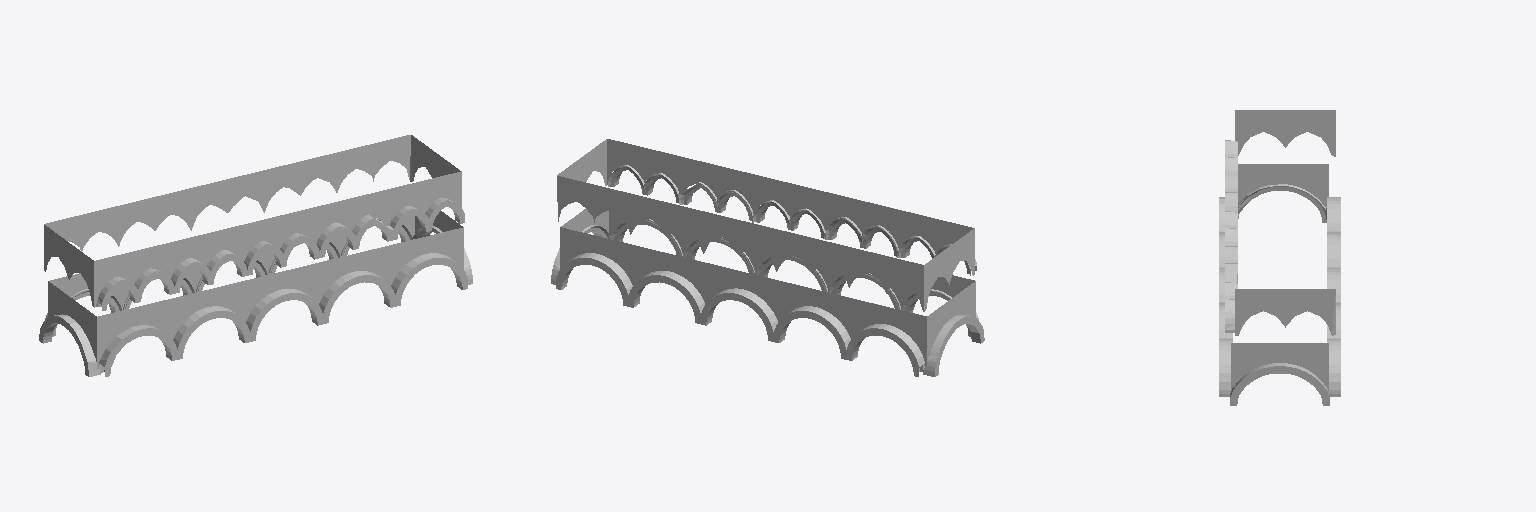
The model's file is church.obj.
3 renders of one model, left to right at view 1: azimuth 30°, elevation 25°; view 2: azimuth 150°, elevation 25°; view 3: azimuth 270°, elevation 25°, orthographic.
Size of the model in its own units: 522 by 147 by 144.